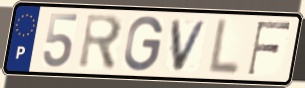5: (41, 12, 80, 69)
F: (245, 20, 293, 77)
G: (123, 15, 166, 74)
L: (205, 17, 242, 78)
R: (76, 11, 125, 73)
V: (170, 18, 211, 73)
